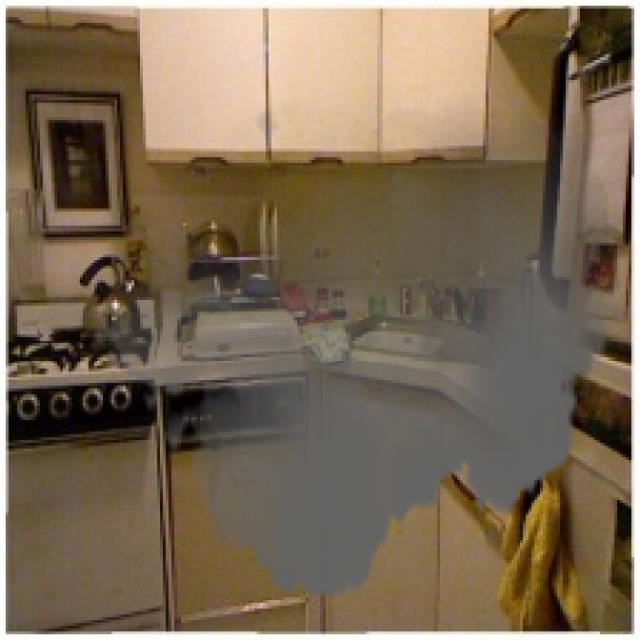smoke: (91, 86, 620, 617)
